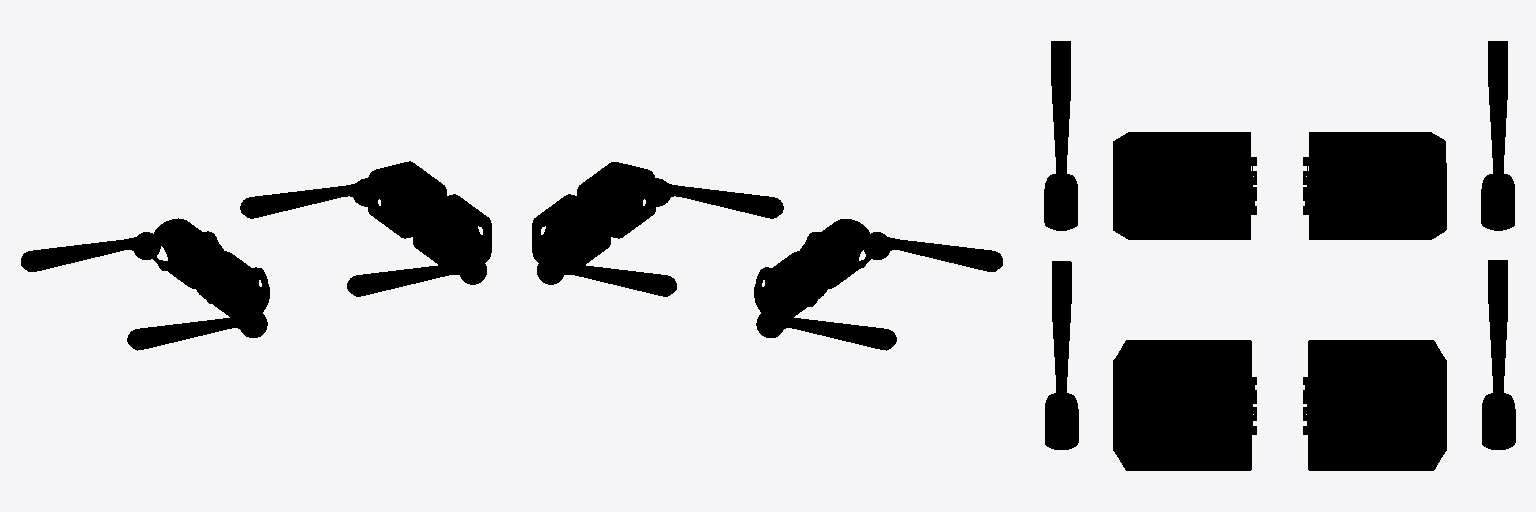
URDF robot description (stoch_4_urdf):
<?xml version="1.0" encoding="utf-8"?>
<!-- This URDF was automatically created by SolidWorks to URDF Exporter! Originally created by Stephen Brawner ([email redacted]) 
     Commit Version: 1.5.1-0-g916b5db  Build Version: 1.5.7152.31018
     For more information, please see http://wiki.ros.org/sw_urdf_exporter -->
<robot
  name="stoch_4_urdf">
  <link
    name="base_link">
    <inertial>
      <origin
        xyz="-0.10238 -1.8464E-05 0.0026538"
        rpy="0 0 0" />
      <mass
        value="7.3" />
      <inertia
        ixx="0.0090197"
        ixy="2.2679E-06"
        ixz="6.4897E-05"
        iyy="0.0094033"
        iyz="-2.1628E-08"
        izz="0.01573" />
    </inertial>
    <visual>
      <origin
        xyz="0 0 0"
        rpy="0 0 0" />
      <geometry>
      
        <mesh
          filename="package://stoch_4_urdf/meshes/base_link.STL" />
      </geometry>
      <material
        name="red">
        <color
          rgba="1 0 0 1" />
      </material>
    </visual>
    <collision>
      <origin
        xyz="0 0 0"
        rpy="0 0 0" />
      <geometry>
        <mesh
          filename="package://stoch_4_urdf/meshes/base_link.STL" />
      </geometry>
    </collision>
  </link>
  <link
    name="FL_Link">
    <inertial>
      <origin
        xyz="0.070269 -0.036118 -2.5973E-07"
        rpy="0 0 0" />
      <mass
        value="0.978" />
      <inertia
        ixx="0.00045941"
        ixy="-6.723E-07"
        ixz="3.3247E-08"
        iyy="0.00059328"
        iyz="5.8817E-09"
        izz="0.00046214" />
    </inertial>
    <visual>
      <origin
        xyz="0 0 0"
        rpy="0 0 0" />
      <geometry>
        <mesh
          filename="package://stoch_4_urdf/meshes/FL_Link.STL" />
      </geometry>
      <material
        name="black">
        <color
          rgba="0 0 0 1" />
      </material>
    </visual>
    <collision>
      <origin
        xyz="0 0 0"
        rpy="0 0 0" />
      <geometry>
        <mesh
          filename="package://stoch_4_urdf/meshes/FL_Link.STL" />
      </geometry>
    </collision>
  </link>
  <joint
    name="FL_Joint"
    type="revolute">
    <origin
      xyz="0.18598 0.10004 -0.0005"
      rpy="0 0 0.00021134" />
    <parent
      link="base_link" />
    <child
      link="FL_Link" />
    <axis
      xyz="1 0 0" />
    <limit
      lower="-1.5708"
      upper="1.5708"
      effort="100"
      velocity="100" />
  </joint>
  <link
    name="FLKM_Link">
    <inertial>
      <origin
        xyz="-0.072527 0.076425 1.3632E-05"
        rpy="0 0 0" />
      <mass
        value="1.547" />
      <inertia
        ixx="0.00031538"
        ixy="-4.0486E-06"
        ixz="-4.8939E-07"
        iyy="0.0031011"
        iyz="6.4773E-11"
        izz="0.0028703" />
    </inertial>
    <visual>
      <origin
        xyz="0 0 0"
        rpy="0 0 0" />
      <geometry>
        <mesh
          filename="package://stoch_4_urdf/meshes/FLKM_Link.STL" />
      </geometry>
      <material
        name="black">
        <color
          rgba="0 0 0 1" />
      </material>
    </visual>
    <collision>
      <origin
        xyz="0 0 0"
        rpy="0 0 0" />
      <geometry>
        <mesh
          filename="package://stoch_4_urdf/meshes/FLKM_Link.STL" />
      </geometry>
    </collision>
  </link>
  <joint
    name="FLKM_Joint"
    type="revolute">
    <origin
      xyz="0.074 -0.01975 0"
      rpy="0 0 0" />
    <parent
      link="FL_Link" />
    <child
      link="FLKM_Link" />
    <axis
      xyz="0 -1 0" />
    <limit
      lower="-1.5708"
      upper="6.2832"
      effort="100"
      velocity="100" />
  </joint>
  <link
    name="FLK_Link">
    <inertial>
      <origin
        xyz="0.18227 2.469E-07 -0.017857"
        rpy="0 0 0" />
      <mass
        value="0.2" />
      <inertia
        ixx="2.1525E-05"
        ixy="-8.02E-10"
        ixz="2.6374E-05"
        iyy="0.00042744"
        iyz="-2.0344E-10"
        izz="0.00040935" />
    </inertial>
    <visual>
      <origin
        xyz="0 0 0"
        rpy="0 0 0" />
      <geometry>
        <mesh
          filename="package://stoch_4_urdf/meshes/FLK_Link.STL" />
      </geometry>
      <material
        name="black">
        <color
          rgba="0 0 0 1" />
      </material>
    </visual>
    <collision>
      <origin
        xyz="0 0 0"
        rpy="0 0 0" />
      <geometry>
        <mesh
          filename="package://stoch_4_urdf/meshes/FLK_Link.STL" />
      </geometry>
    </collision>
  </link>
  <joint
    name="FLK_Joint"
    type="continuous">
    <origin
      xyz="-0.297 0.1385 0"
      rpy="0 0 0" />
    <parent
      link="FLKM_Link" />
    <child
      link="FLK_Link" />
    <axis
      xyz="0 1 0" />
    <limit
      lower="0"
      upper="0"
      effort="0"
      velocity="0" />
  </joint>
  <link
    name="FR_Link">
    <inertial>
      <origin
        xyz="0.07027 0.036118 -2.9553E-07"
        rpy="0 0 0" />
      <mass
        value="0.978" />
      <inertia
        ixx="0.00045941"
        ixy="6.965E-07"
        ixz="-3.3418E-08"
        iyy="0.00059328"
        iyz="-5.8767E-09"
        izz="0.00046214" />
    </inertial>
    <visual>
      <origin
        xyz="0 0 0"
        rpy="0 0 0" />
      <geometry>
        <mesh
          filename="package://stoch_4_urdf/meshes/FR_Link.STL" />
      </geometry>
      <material
        name="black">
        <color
          rgba="0 0 0 1" />
      </material>
    </visual>
    <collision>
      <origin
        xyz="0 0 0"
        rpy="0 0 0" />
      <geometry>
        <mesh
          filename="package://stoch_4_urdf/meshes/FR_Link.STL" />
      </geometry>
    </collision>
  </link>
  <joint
    name="FR_Joint"
    type="revolute">
    <origin
      xyz="0.18602 -0.099961 -0.0005"
      rpy="0 0 0.00021134" />
    <parent
      link="base_link" />
    <child
      link="FR_Link" />
    <axis
      xyz="1 0 0" />
    <limit
      lower="-1.5708"
      upper="1.5708"
      effort="100"
      velocity="100" />
  </joint>
  <link
    name="FRKM_Link">
    <inertial>
      <origin
        xyz="-0.072527 -0.076425 -1.3633E-05"
        rpy="0 0 0" />
      <mass
        value="1.547" />
      <inertia
        ixx="0.00031538"
        ixy="4.0486E-06"
        ixz="4.8938E-07"
        iyy="0.0031011"
        iyz="6.4797E-11"
        izz="0.0028703" />
    </inertial>
    <visual>
      <origin
        xyz="0 0 0"
        rpy="0 0 0" />
      <geometry>
        <mesh
          filename="package://stoch_4_urdf/meshes/FRKM_Link.STL" />
      </geometry>
      <material
        name="black">
        <color
          rgba="0 0 0 1" />
      </material>
    </visual>
    <collision>
      <origin
        xyz="0 0 0"
        rpy="0 0 0" />
      <geometry>
        <mesh
          filename="package://stoch_4_urdf/meshes/FRKM_Link.STL" />
      </geometry>
    </collision>
  </link>
  <joint
    name="FRKM_Joint"
    type="revolute">
    <origin
      xyz="0.074 0.01975 0"
      rpy="0 0 0" />
    <parent
      link="FR_Link" />
    <child
      link="FRKM_Link" />
    <axis
      xyz="0 1 0" />
    <limit
      lower="-1.5708"
      upper="6.2832"
      effort="100"
      velocity="100" />
  </joint>
  <link
    name="FRK_Link">
    <inertial>
      <origin
        xyz="0.18227 2.469E-07 -0.017857"
        rpy="0 0 0" />
      <mass
        value="0.2" />
      <inertia
        ixx="2.1525E-05"
        ixy="-8.02E-10"
        ixz="2.6374E-05"
        iyy="0.00042744"
        iyz="-2.0344E-10"
        izz="0.00040935" />
    </inertial>
    <visual>
      <origin
        xyz="0 0 0"
        rpy="0 0 0" />
      <geometry>
        <mesh
          filename="package://stoch_4_urdf/meshes/FRK_Link.STL" />
      </geometry>
      <material
        name="black">
        <color
          rgba="0 0 0 1" />
      </material>
    </visual>
    <collision>
      <origin
        xyz="0 0 0"
        rpy="0 0 0" />
      <geometry>
        <mesh
          filename="package://stoch_4_urdf/meshes/FRK_Link.STL" />
      </geometry>
    </collision>
  </link>
  <joint
    name="FRK_Joint"
    type="continuous">
    <origin
      xyz="-0.297 -0.1385 0"
      rpy="0 0 0" />
    <parent
      link="FRKM_Link" />
    <child
      link="FRK_Link" />
    <axis
      xyz="0 -1 0" />
    <limit
      lower="0"
      upper="0"
      effort="0"
      velocity="0" />
  </joint>
  <link
    name="BL_Link">
    <inertial>
      <origin
        xyz="-0.06995 -0.037322 -1.8681E-06"
        rpy="0 0 0" />
      <mass
        value="0.978" />
      <inertia
        ixx="0.00039025"
        ixy="5.9364E-08"
        ixz="1.1626E-07"
        iyy="0.00050148"
        iyz="5.3635E-09"
        izz="0.00037524" />
    </inertial>
    <visual>
      <origin
        xyz="0 0 0"
        rpy="0 0 0" />
      <geometry>
        <mesh
          filename="package://stoch_4_urdf/meshes/BL_Link.STL" />
      </geometry>
      <material
        name="black">
        <color
          rgba="0 0 0 1" />
      </material>
    </visual>
    <collision>
      <origin
        xyz="0 0 0"
        rpy="0 0 0" />
      <geometry>
        <mesh
          filename="package://stoch_4_urdf/meshes/BL_Link.STL" />
      </geometry>
    </collision>
  </link>
  <joint
    name="BL_Joint"
    type="revolute">
    <origin
      xyz="-0.18602 0.099961 -0.0005"
      rpy="0 0 0.00021134" />
    <parent
      link="base_link" />
    <child
      link="BL_Link" />
    <axis
      xyz="-1 0 0" />
    <limit
      lower="-1.5708"
      upper="1.5708"
      effort="100"
      velocity="100" />
  </joint>
  <link
    name="BLKM_Link">
    <inertial>
      <origin
        xyz="-0.072527 0.076425 1.3632E-05"
        rpy="0 0 0" />
      <mass
        value="1.547" />
      <inertia
        ixx="0.00031538"
        ixy="-4.0486E-06"
        ixz="-4.8939E-07"
        iyy="0.0031011"
        iyz="6.4774E-11"
        izz="0.0028703" />
    </inertial>
    <visual>
      <origin
        xyz="0 0 0"
        rpy="0 0 0" />
      <geometry>
        <mesh
          filename="package://stoch_4_urdf/meshes/BLKM_Link.STL" />
      </geometry>
      <material
        name="black">
        <color
          rgba="0 0 0 1" />
      </material>
    </visual>
    <collision>
      <origin
        xyz="0 0 0"
        rpy="0 0 0" />
      <geometry>
        <mesh
          filename="package://stoch_4_urdf/meshes/BLKM_Link.STL" />
      </geometry>
    </collision>
  </link>
  <joint
    name="BLKM_Joint"
    type="revolute">
    <origin
      xyz="-0.074 -0.01975 0"
      rpy="0 0 0" />
    <parent
      link="BL_Link" />
    <child
      link="BLKM_Link" />
    <axis
      xyz="0 -1 0" />
    <limit
      lower="-1.5708"
      upper="6.2832"
      effort="100"
      velocity="100" />
  </joint>
  <link
    name="BLK_Link">
    <inertial>
      <origin
        xyz="0.18227 2.469E-07 -0.017857"
        rpy="0 0 0" />
      <mass
        value="0.2" />
      <inertia
        ixx="2.1525E-05"
        ixy="-8.02E-10"
        ixz="2.6374E-05"
        iyy="0.00042744"
        iyz="-2.0344E-10"
        izz="0.00040935" />
    </inertial>
    <visual>
      <origin
        xyz="0 0 0"
        rpy="0 0 0" />
      <geometry>
        <mesh
          filename="package://stoch_4_urdf/meshes/BLK_Link.STL" />
      </geometry>
      <material
        name="black">
        <color
          rgba="0 0 0 1" />
      </material>
    </visual>
    <collision>
      <origin
        xyz="0 0 0"
        rpy="0 0 0" />
      <geometry>
        <mesh
          filename="package://stoch_4_urdf/meshes/BLK_Link.STL" />
      </geometry>
    </collision>
  </link>
  <joint
    name="BLK_Joint"
    type="continuous">
    <origin
      xyz="-0.297 0.1385 0"
      rpy="0 0 0" />
    <parent
      link="BLKM_Link" />
    <child
      link="BLK_Link" />
    <axis
      xyz="0 1 0" />
    <limit
      lower="0"
      upper="0"
      effort="0"
      velocity="0" />
  </joint>
  <link
    name="BR_Link">
    <inertial>
      <origin
        xyz="-0.070173 0.037288 -1.5868E-07"
        rpy="0 0 0" />
      <mass
        value="0.978" />
      <inertia
        ixx="0.00038996"
        ixy="-9.0848E-07"
        ixz="-8.0338E-08"
        iyy="0.00050185"
        iyz="-1.0951E-09"
        izz="0.00037578" />
    </inertial>
    <visual>
      <origin
        xyz="0 0 0"
        rpy="0 0 0" />
      <geometry>
        <mesh
          filename="package://stoch_4_urdf/meshes/BR_Link.STL" />
      </geometry>
      <material
        name="black">
        <color
          rgba="0 0 0 1" />
      </material>
    </visual>
    <collision>
      <origin
        xyz="0 0 0"
        rpy="0 0 0" />
      <geometry>
        <mesh
          filename="package://stoch_4_urdf/meshes/BR_Link.STL" />
      </geometry>
    </collision>
  </link>
  <joint
    name="BR_Joint"
    type="revolute">
    <origin
      xyz="-0.18598 -0.10004 -0.0005"
      rpy="0 0 0.00021134" />
    <parent
      link="base_link" />
    <child
      link="BR_Link" />
    <axis
      xyz="-1 0 0" />
    <limit
      lower="-1.5708"
      upper="1.5708"
      effort="100"
      velocity="100" />
  </joint>
  <link
    name="BRKM_Link">
    <inertial>
      <origin
        xyz="-0.072527 -0.076425 -1.3633E-05"
        rpy="0 0 0" />
      <mass
        value="1.547" />
      <inertia
        ixx="0.00031538"
        ixy="4.0486E-06"
        ixz="4.8938E-07"
        iyy="0.0031011"
        iyz="6.4788E-11"
        izz="0.0028703" />
    </inertial>
    <visual>
      <origin
        xyz="0 0 0"
        rpy="0 0 0" />
      <geometry>
        <mesh
          filename="package://stoch_4_urdf/meshes/BRKM_Link.STL" />
      </geometry>
      <material
        name="black">
        <color
          rgba="0 0 0 1" />
      </material>
    </visual>
    <collision>
      <origin
        xyz="0 0 0"
        rpy="0 0 0" />
      <geometry>
        <mesh
          filename="package://stoch_4_urdf/meshes/BRKM_Link.STL" />
      </geometry>
    </collision>
  </link>
  <joint
    name="BRKM_Joint"
    type="revolute">
    <origin
      xyz="-0.074 0.01975 0"
      rpy="0 0 0" />
    <parent
      link="BR_Link" />
    <child
      link="BRKM_Link" />
    <axis
      xyz="0 1 0" />
    <limit
      lower="-1.5708"
      upper="6.2832"
      effort="100"
      velocity="100" />
  </joint>
  <link
    name="BRK_Link">
    <inertial>
      <origin
        xyz="0.18227 2.469E-07 -0.017857"
        rpy="0 0 0" />
      <mass
        value="0.2" />
      <inertia
        ixx="2.1525E-05"
        ixy="-8.02E-10"
        ixz="2.6374E-05"
        iyy="0.00042744"
        iyz="-2.0344E-10"
        izz="0.00040935" />
    </inertial>
    <visual>
      <origin
        xyz="0 0 0"
        rpy="0 0 0" />
      <geometry>
        <mesh
          filename="package://stoch_4_urdf/meshes/BRK_Link.STL" />
      </geometry>
      <material
        name="black">
        <color
          rgba="0 0 0 1" />
      </material>
    </visual>
    <collision>
      <origin
        xyz="0 0 0"
        rpy="0 0 0" />
      <geometry>
        <mesh
          filename="package://stoch_4_urdf/meshes/BRK_Link.STL" />
      </geometry>
    </collision>
  </link>
  <joint
    name="BRK_Joint"
    type="continuous">
    <origin
      xyz="-0.297 -0.1385 0"
      rpy="0 0 0" />
    <parent
      link="BRKM_Link" />
    <child
      link="BRK_Link" />
    <axis
      xyz="0 -1 0" />
    <limit
      lower="0"
      upper="0"
      effort="0"
      velocity="0" />
  </joint>


</robot>

--- Facts derived from the render (not from the file) ---
3 views of the same robot in one strip: view 1: azimuth 30°, elevation 25°; view 2: azimuth 150°, elevation 25°; view 3: azimuth 270°, elevation 25° (orthographic).
Model stoch_4_urdf with 13 links and 12 joints (8 revolute, 4 continuous), rooted at base_link, posed all joints at 0.
Visible links, largest first — view 1: FR_Link, FL_Link, BR_Link, BL_Link, FRK_Link, BRK_Link, BLK_Link, FLK_Link; view 2: FL_Link, FR_Link, BL_Link, BR_Link, BLK_Link, FLK_Link, BRK_Link, FRK_Link; view 3: FL_Link, FR_Link, BR_Link, BL_Link, FLK_Link, BLK_Link, BRK_Link, FRK_Link.
Link boxes in pixels (x1,y1,x2,y2): FR_Link: (413, 194, 491, 264); FL_Link: (368, 161, 446, 238); BR_Link: (194, 251, 269, 317); BL_Link: (150, 218, 223, 288); FRK_Link: (347, 257, 486, 296); BRK_Link: (127, 310, 267, 350); BLK_Link: (21, 232, 160, 271); FLK_Link: (240, 178, 378, 218); FL_Link: (532, 194, 610, 264); FR_Link: (577, 162, 655, 238); BL_Link: (754, 251, 829, 317); BR_Link: (800, 219, 873, 288); BLK_Link: (756, 310, 896, 350); FLK_Link: (537, 257, 676, 296); BRK_Link: (864, 232, 1002, 271); FRK_Link: (645, 178, 783, 218); FL_Link: (1303, 340, 1446, 470); FR_Link: (1113, 340, 1256, 470); BR_Link: (1113, 132, 1256, 239); BL_Link: (1303, 132, 1446, 239); FLK_Link: (1482, 260, 1515, 449); BLK_Link: (1481, 41, 1514, 230); BRK_Link: (1044, 41, 1077, 230); FRK_Link: (1045, 261, 1078, 449).
Size in the robot's own frame: 0.9039 by 0.4716 by 0.1116 metres.
Meshes: 13 distinct files referenced, 8 mesh visuals loaded (8 binary STL); not drawn: 5 (reference not matched to a file when rendering).
